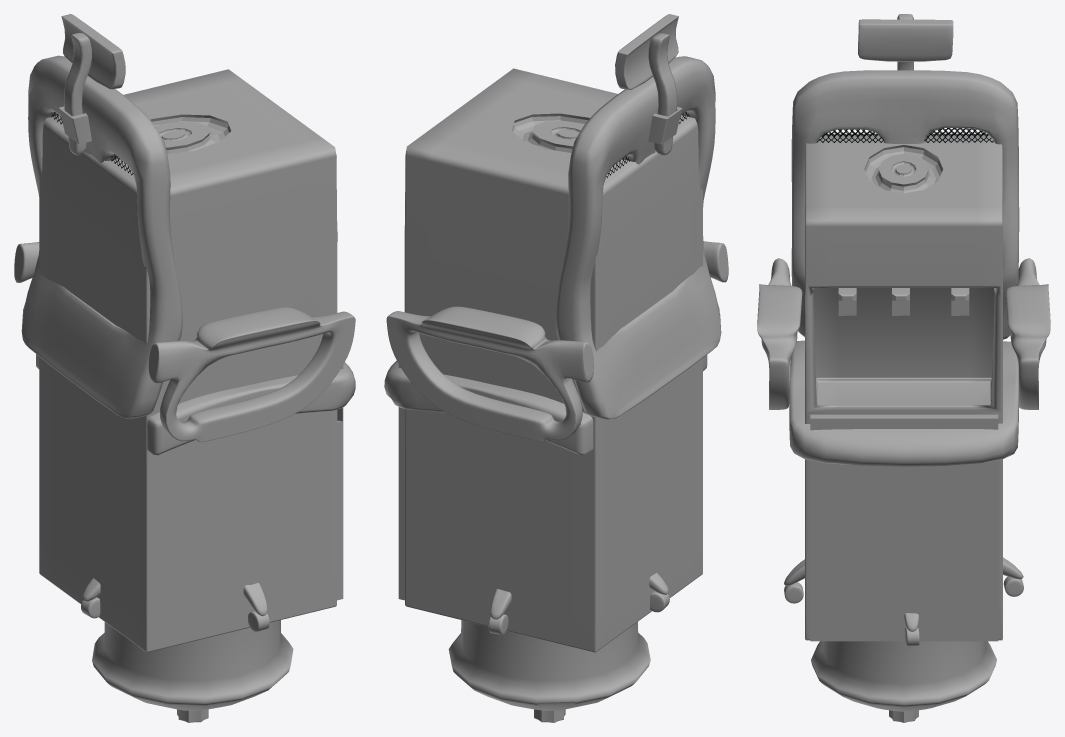
The model's file is office prop04.fbx.
3 renders of one model, left to right at view 1: azimuth 30°, elevation 25°; view 2: azimuth 150°, elevation 25°; view 3: azimuth 270°, elevation 25°, orthographic. The views are drawn at different scales.
Parts seen in each view (by area): view 1: pasted__Water_Dispenser, boss_chair0_1, water_bottle1, chair_bass1; view 2: pasted__Water_Dispenser, boss_chair0_1, water_bottle1, chair_bass1; view 3: pasted__Water_Dispenser, boss_chair0_1, water_bottle1, chair_bass1.
Boxes of the visible parts, box(x1,y1,x2,y2) form: pasted__Water_Dispenser: box(39, 69, 343, 652); boss_chair0_1: box(14, 14, 355, 455); water_bottle1: box(92, 620, 293, 722); chair_bass1: box(81, 578, 269, 631); pasted__Water_Dispenser: box(398, 68, 702, 652); boss_chair0_1: box(384, 14, 728, 455); water_bottle1: box(448, 620, 650, 722); chair_bass1: box(488, 573, 669, 635); pasted__Water_Dispenser: box(805, 133, 1002, 641); boss_chair0_1: box(757, 14, 1050, 466); water_bottle1: box(811, 641, 996, 722); chair_bass1: box(784, 557, 1023, 646).
Size of the model in its own units: 69.6 by 186 by 76.12.
4 materials, 1 textured.
